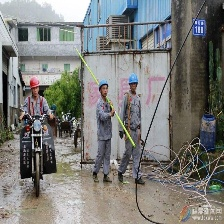helmet: (28, 76, 42, 94), (128, 73, 140, 90), (99, 78, 111, 95)
person: (124, 75, 143, 185), (96, 79, 114, 186), (22, 76, 51, 124)
